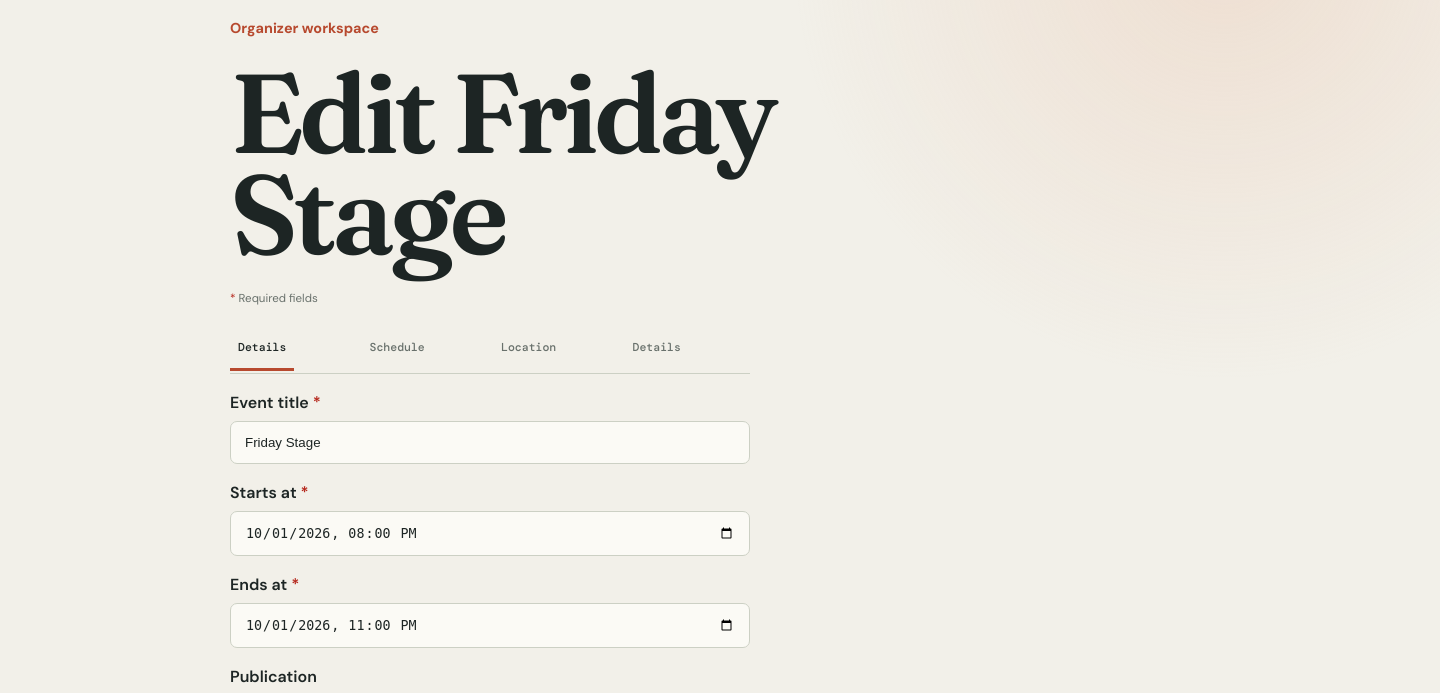
Test: EventFormPage cancellation › opens the app confirmation modal for unsaved edits without using the browser confirm dialog
Replace the text in the field showing "Friday Stage" with "Saturday Stage" at (490, 442), box [230,420,750,464]
(page scrolled)
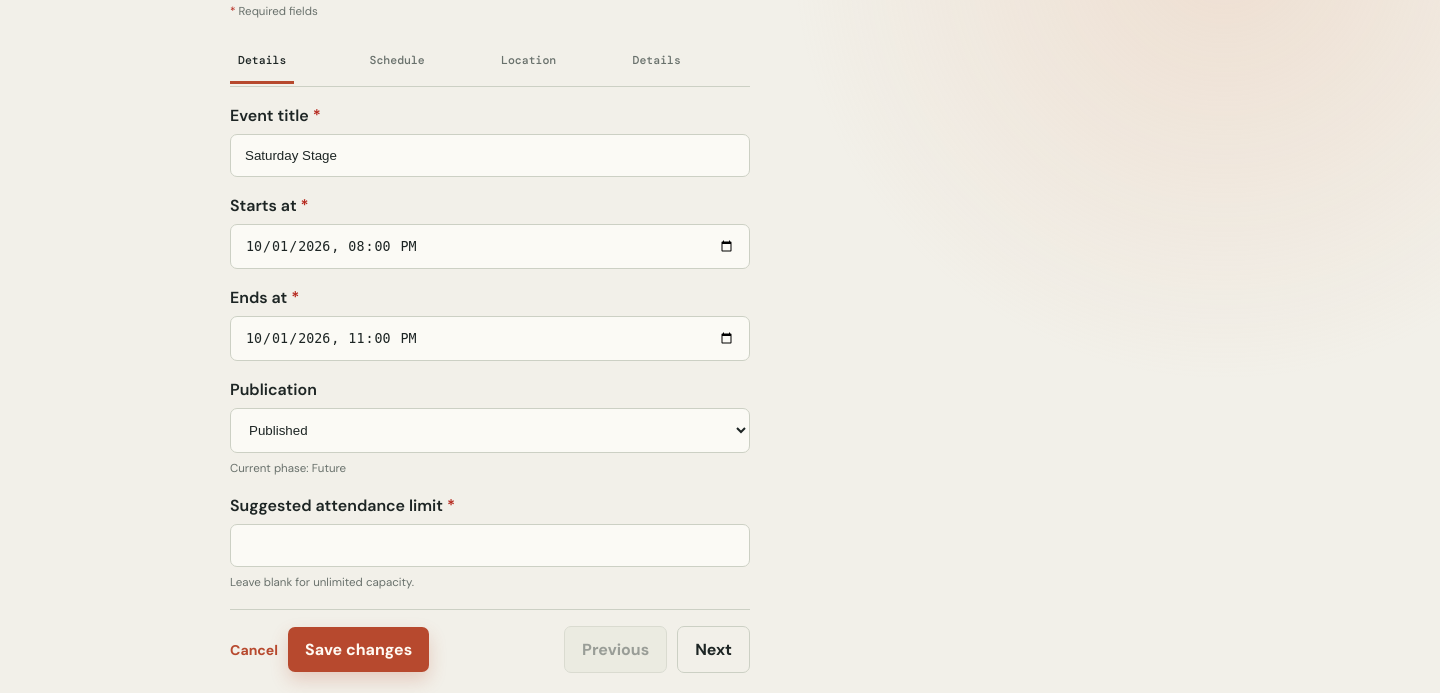
Click the button "Cancel".
click(254, 650)  # box [230,632,278,668]
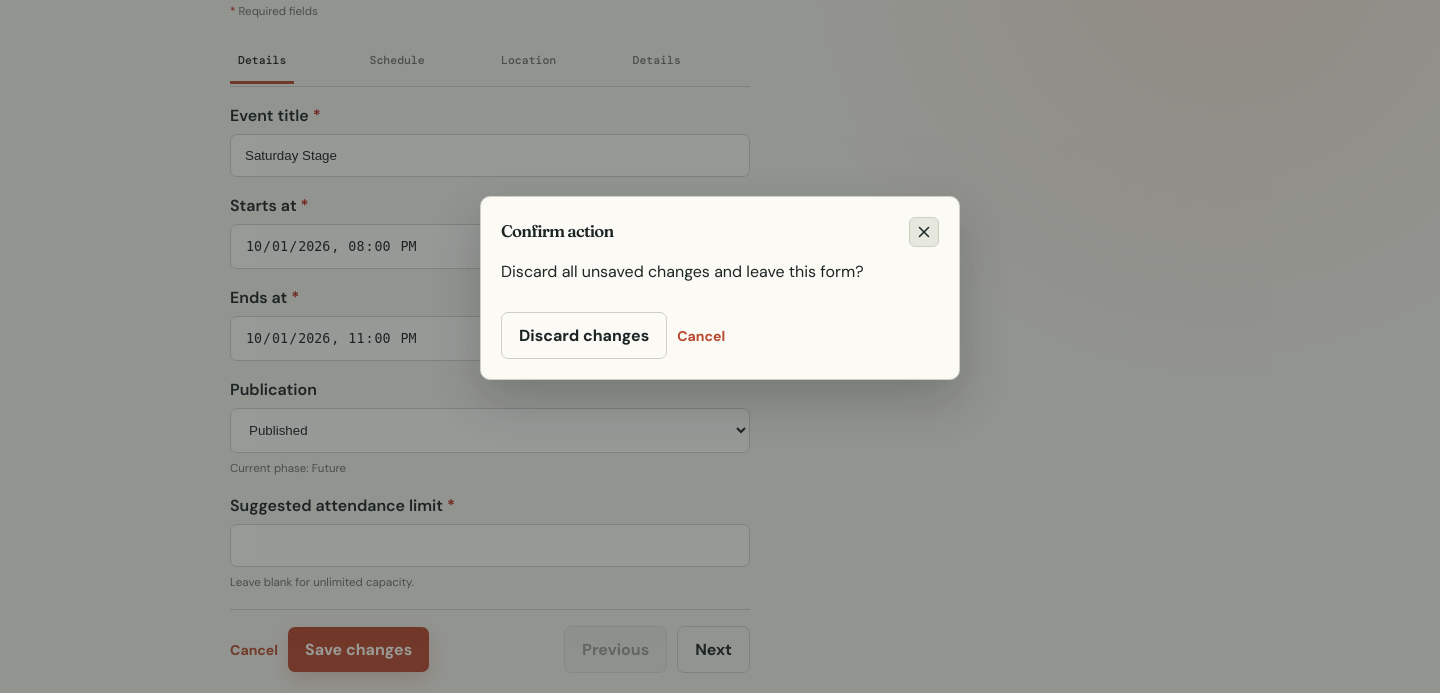
expect the dialog "Confirm action" shows "Discard all unsaved changes and leave this form?": met, box [501,261,864,282]
Click the button with class "link-button" showing "Cancel".
click(701, 336)  # box [677,312,725,359]
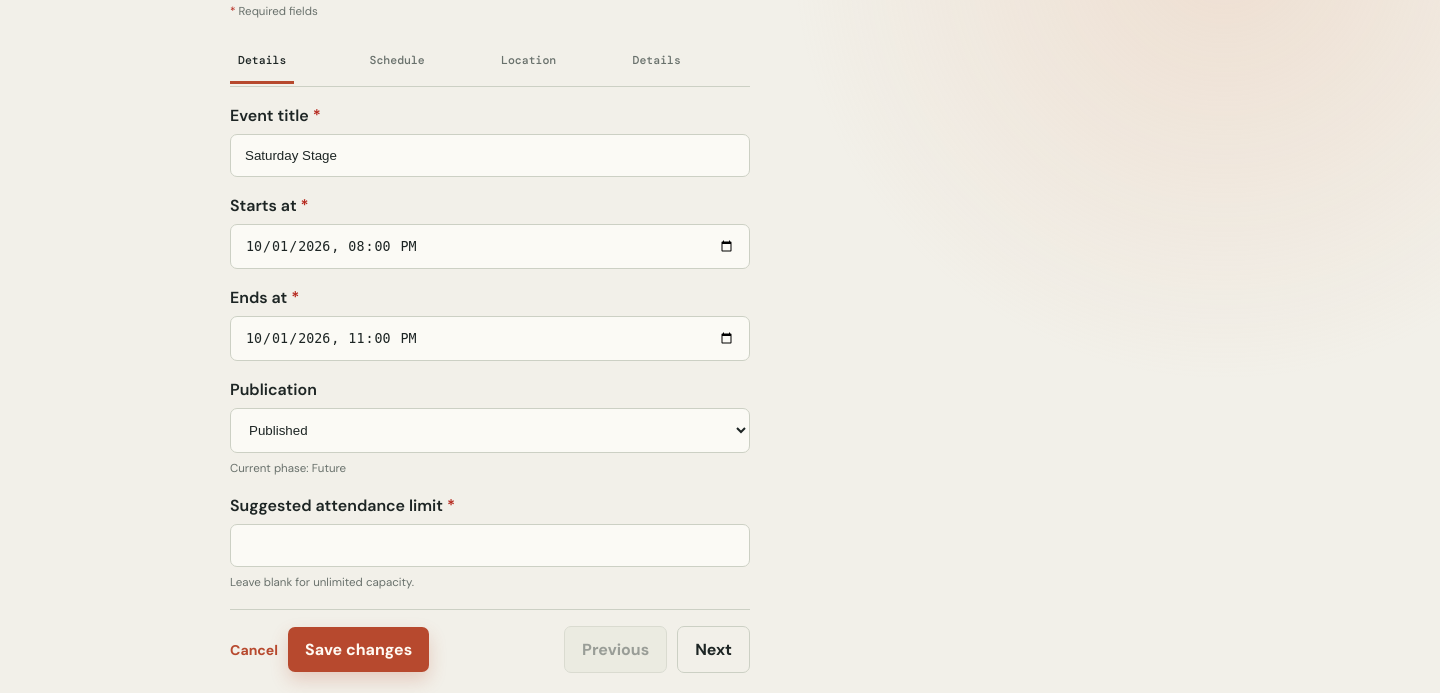
expect the dialog is gone: met
